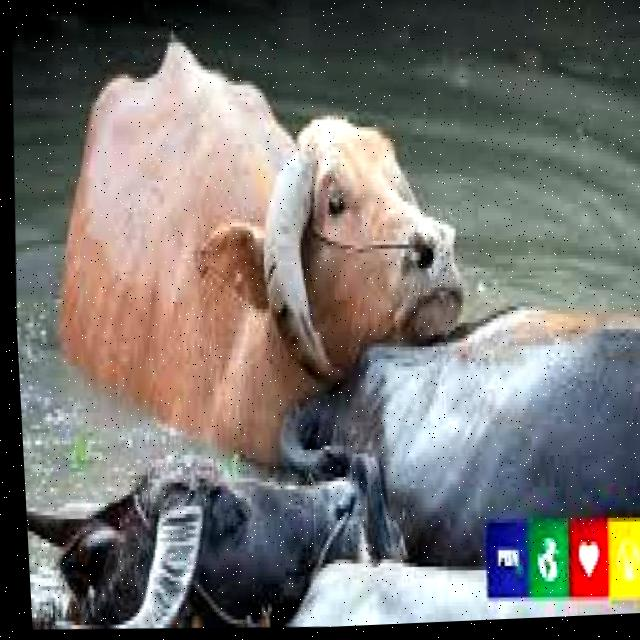cow: (60, 21, 483, 495), (255, 290, 640, 592), (23, 429, 378, 640)
